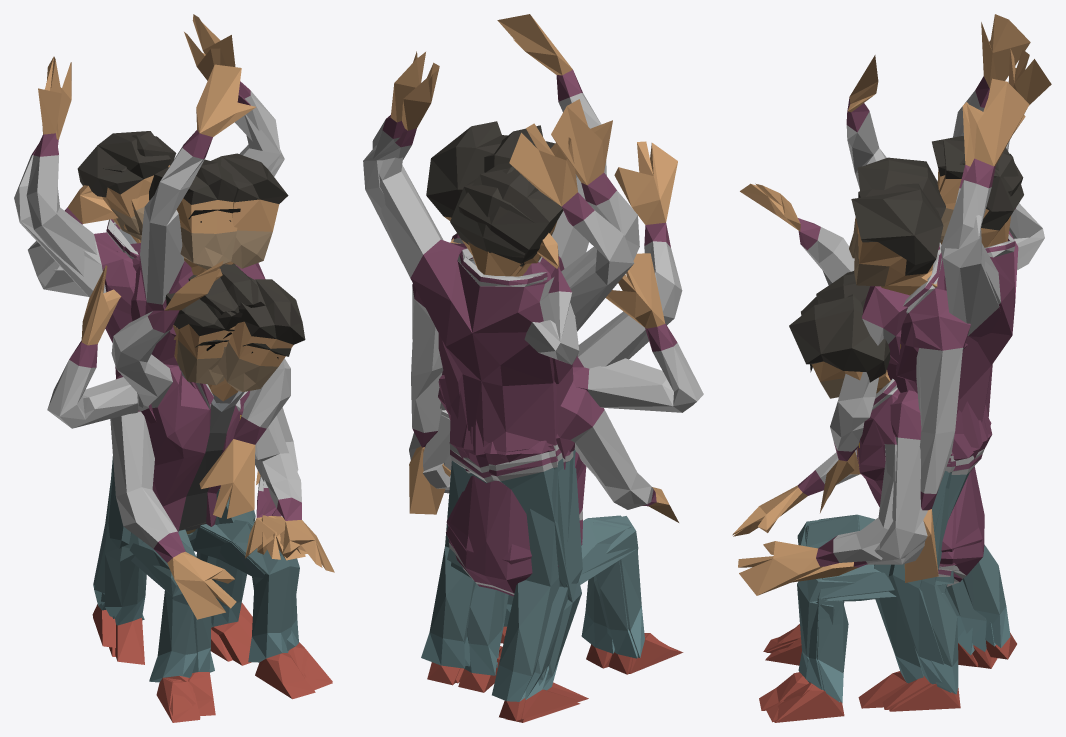
Rendered from crowd_b.glb.
3 renders of one model, left to right at view 1: azimuth 30°, elevation 25°; view 2: azimuth 150°, elevation 25°; view 3: azimuth 270°, elevation 25°, orthographic. The views are drawn at different scales.
Visible parts, largest first — view 1: sit, sit_cheer_b, fist_a, sit_cheer_a, fist_b, arms_b, arms_a; view 2: arms_b, fist_b, arms_a, sit, sit_cheer_a, sit_cheer_b, fist_a; view 3: fist_b, arms_b, sit_cheer_b, fist_a, sit, arms_a, sit_cheer_a.
Boxes of the visible parts, x1=… form: sit: x1=110, y1=290, x2=334, y2=716; sit_cheer_b: x1=111, y1=260, x2=332, y2=718; fist_a: x1=28, y1=159, x2=290, y2=665; sit_cheer_a: x1=47, y1=264, x2=332, y2=722; fist_b: x1=101, y1=64, x2=288, y2=661; arms_b: x1=26, y1=14, x2=280, y2=617; arms_a: x1=14, y1=32, x2=284, y2=647; arms_b: x1=372, y1=51, x2=639, y2=720; fist_b: x1=409, y1=14, x2=606, y2=722; arms_a: x1=363, y1=62, x2=634, y2=719; sit: x1=438, y1=372, x2=678, y2=668; sit_cheer_a: x1=409, y1=253, x2=703, y2=673; sit_cheer_b: x1=423, y1=141, x2=682, y2=674; fist_a: x1=455, y1=125, x2=588, y2=702; fist_b: x1=846, y1=55, x2=997, y2=668; arms_b: x1=889, y1=14, x2=1030, y2=711; sit_cheer_b: x1=740, y1=183, x2=959, y2=722; fist_a: x1=820, y1=157, x2=1044, y2=708; sit: x1=732, y1=441, x2=984, y2=710; arms_a: x1=882, y1=48, x2=1051, y2=709; sit_cheer_a: x1=763, y1=271, x2=982, y2=722.
Size of the model in its own units: 1 by 2.16 by 0.9875.
1 material, 1 textured.
